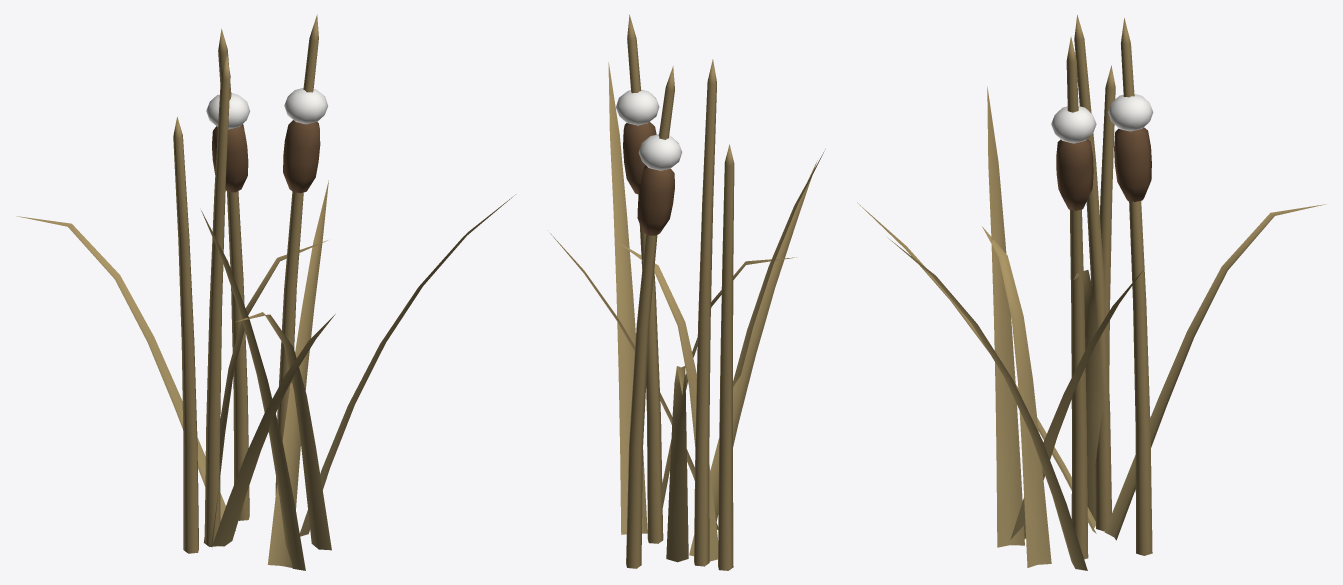
Rendered from decor_roseau_hiver_2.glb.
The picture shows the model from 3 angles, left to right: view 1: azimuth 30°, elevation 25°; view 2: azimuth 150°, elevation 25°; view 3: azimuth 270°, elevation 25°; orthographic projection. The views are drawn at different scales.
Parts seen in each view (by area): view 1: herbe, epis, neige; view 2: herbe, epis, neige; view 3: herbe, epis, neige.
Boxes of the visible parts, x1,y1,x2,y2 form: herbe: (16, 14, 515, 570); epis: (212, 120, 320, 193); neige: (206, 88, 327, 129); herbe: (550, 14, 825, 570); epis: (623, 122, 674, 235); neige: (616, 89, 682, 170); herbe: (857, 15, 1326, 570); epis: (1056, 127, 1151, 210); neige: (1051, 94, 1153, 143).
Bounding box in the file's own units: 0.1667 × 0.2863 × 0.2288.
